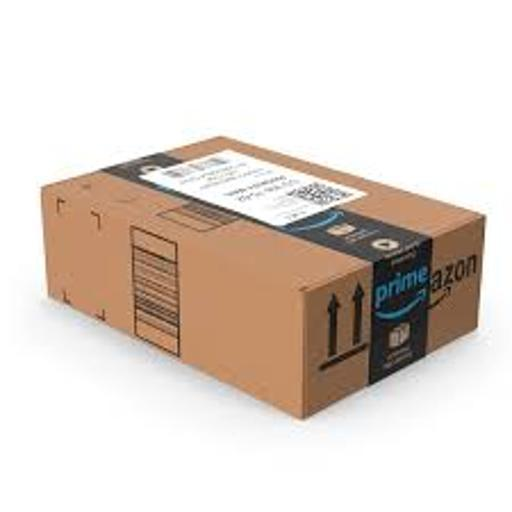Amazon: (40, 131, 492, 427)
